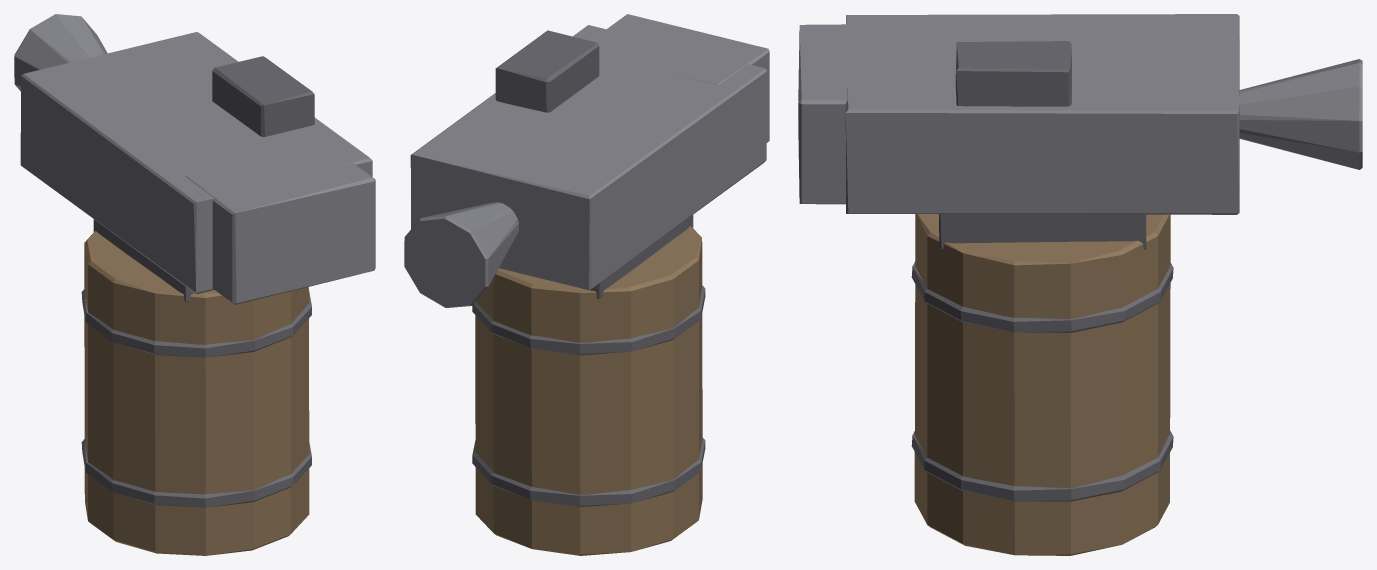
The model's file is dgn_anvil.glb.
3 views of the same model, side by side, from view 1: azimuth 30°, elevation 25°; view 2: azimuth 150°, elevation 25°; view 3: azimuth 270°, elevation 25° (orthographic). The views are drawn at different scales.
Visible parts, largest first — view 1: dgn_anvil; view 2: dgn_anvil; view 3: dgn_anvil.
Boxes of the visible parts, box(x1,y1,x2,y2) form: dgn_anvil: box(14, 14, 375, 555); dgn_anvil: box(404, 14, 769, 555); dgn_anvil: box(798, 14, 1362, 555).
Size of the model in its own units: 0.4387 by 0.91 by 0.97.
